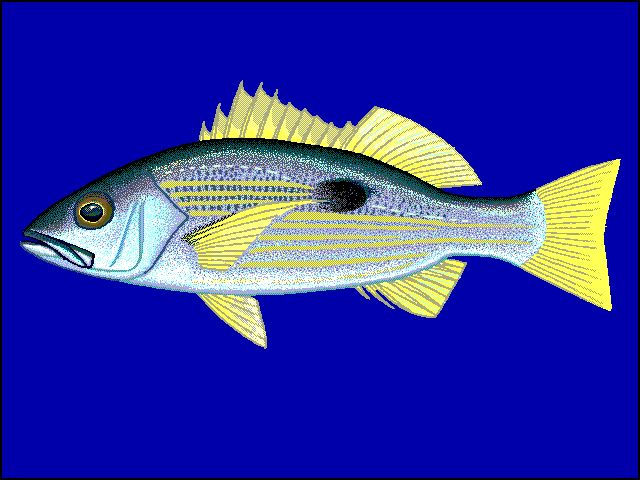fish: (21, 79, 622, 351)
